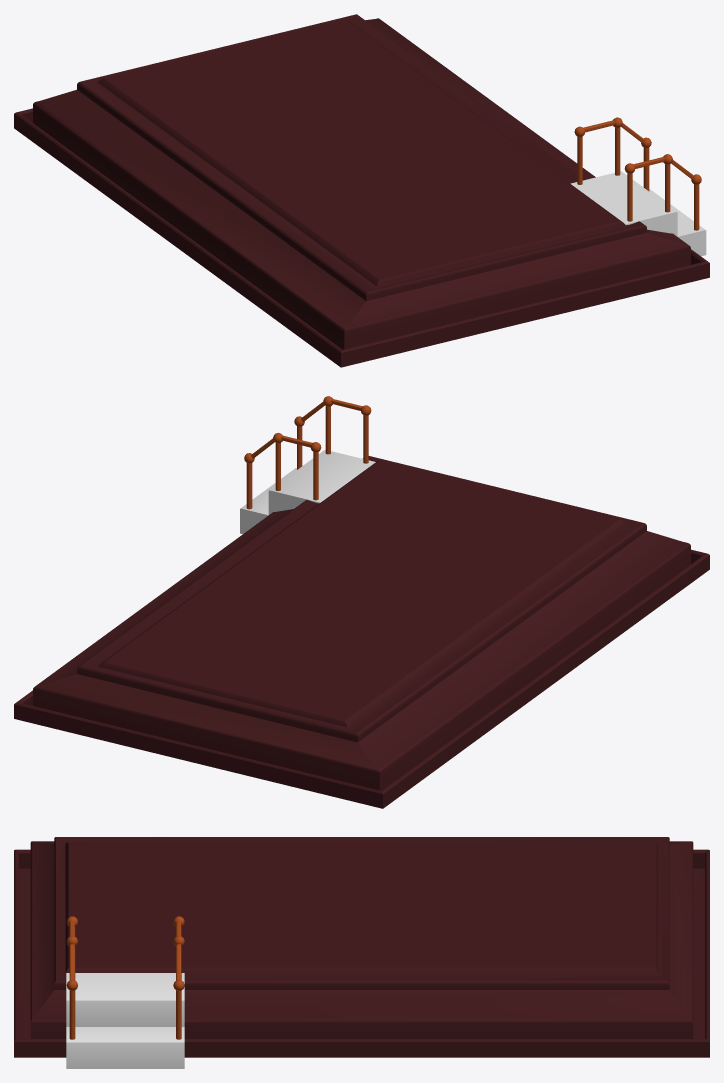
The model's file is L1_Stage_Set.fbx.
3 views of the same model, one above another, from view 1: azimuth 30°, elevation 25°; view 2: azimuth 150°, elevation 25°; view 3: azimuth 270°, elevation 25° (orthographic). The views are drawn at different scales.
Visible parts, largest first — view 1: Stage, Stairs, Railings; view 2: Stage, Stairs, Railings; view 3: Stage, Stairs, Railings.
Boxes of the visible parts, <box> form: Stage: <box>14,14,709,367</box>; Stairs: <box>570,171,706,256</box>; Railings: <box>574,117,701,230</box>; Stage: <box>14,456,709,808</box>; Stairs: <box>240,449,375,533</box>; Railings: <box>244,396,371,509</box>; Stage: <box>14,837,709,1057</box>; Stairs: <box>66,973,184,1068</box>; Railings: <box>66,916,184,1039</box>.
Size of the model in its own units: 405 by 106 by 588.
